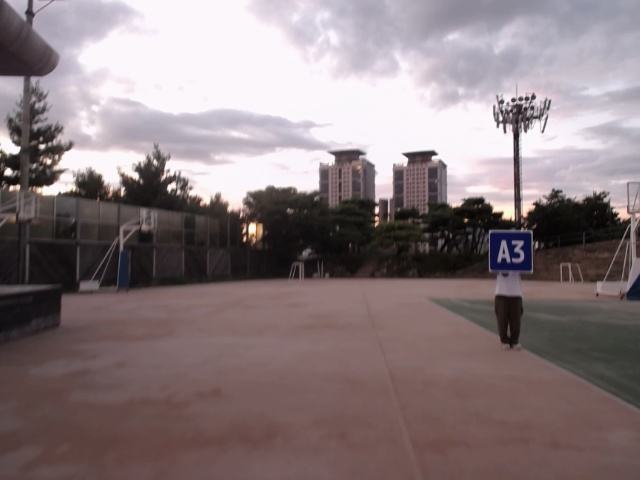delivery_a3: (486, 229, 533, 274)
